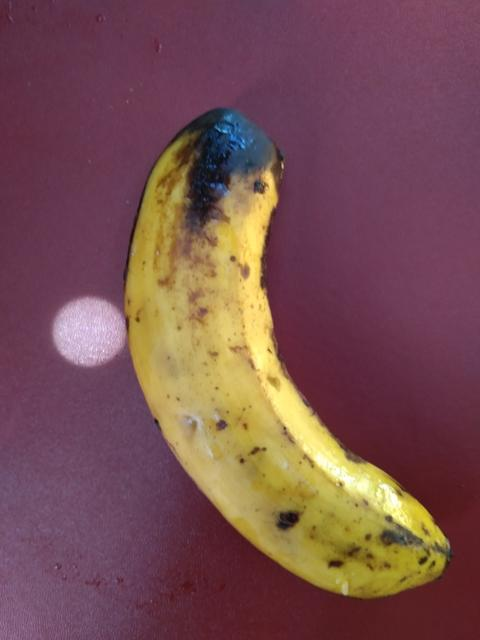rotten: (107, 84, 454, 639)
